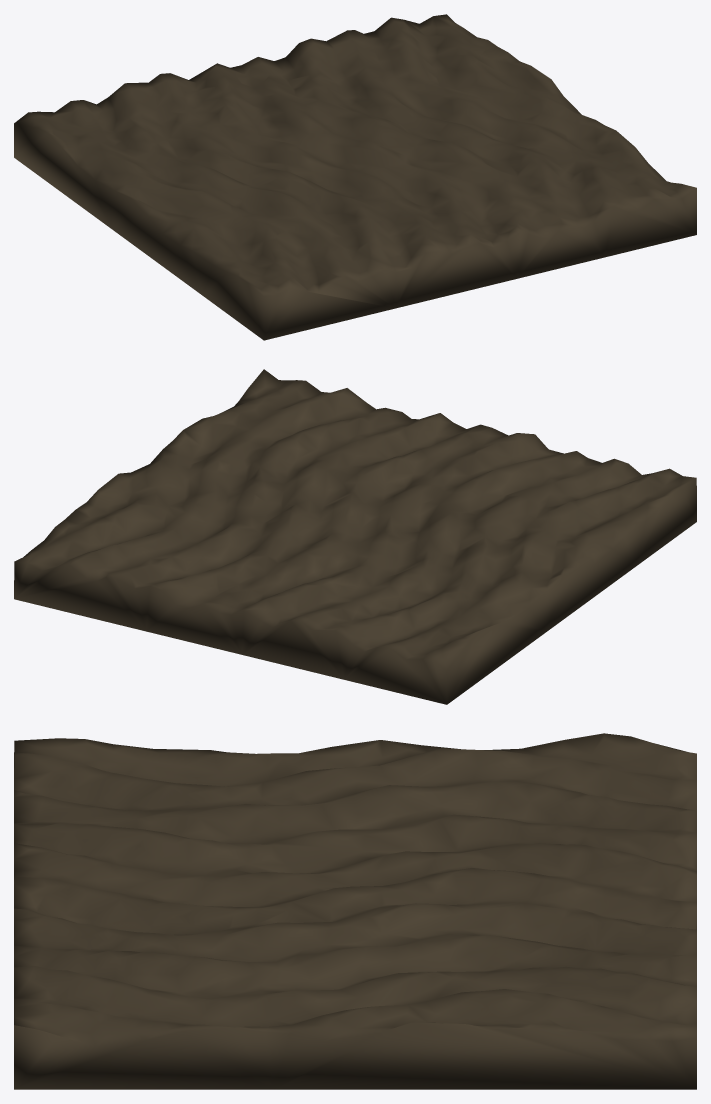
File: fine-sediment-bed.lod1.glb
3 views of the same model, one above another, from view 1: azimuth 30°, elevation 25°; view 2: azimuth 150°, elevation 25°; view 3: azimuth 270°, elevation 25° (orthographic). The views are drawn at different scales.
Parts seen in each view (by area): view 1: fine-sediment-bed; view 2: fine-sediment-bed; view 3: fine-sediment-bed.
Boxes of the visible parts, box(x1,y1,x2,y2) form: fine-sediment-bed: box(14, 14, 696, 340); fine-sediment-bed: box(14, 369, 696, 704); fine-sediment-bed: box(14, 733, 696, 1089).
Bounding box in the file's own units: 2 × 0.2236 × 2.
